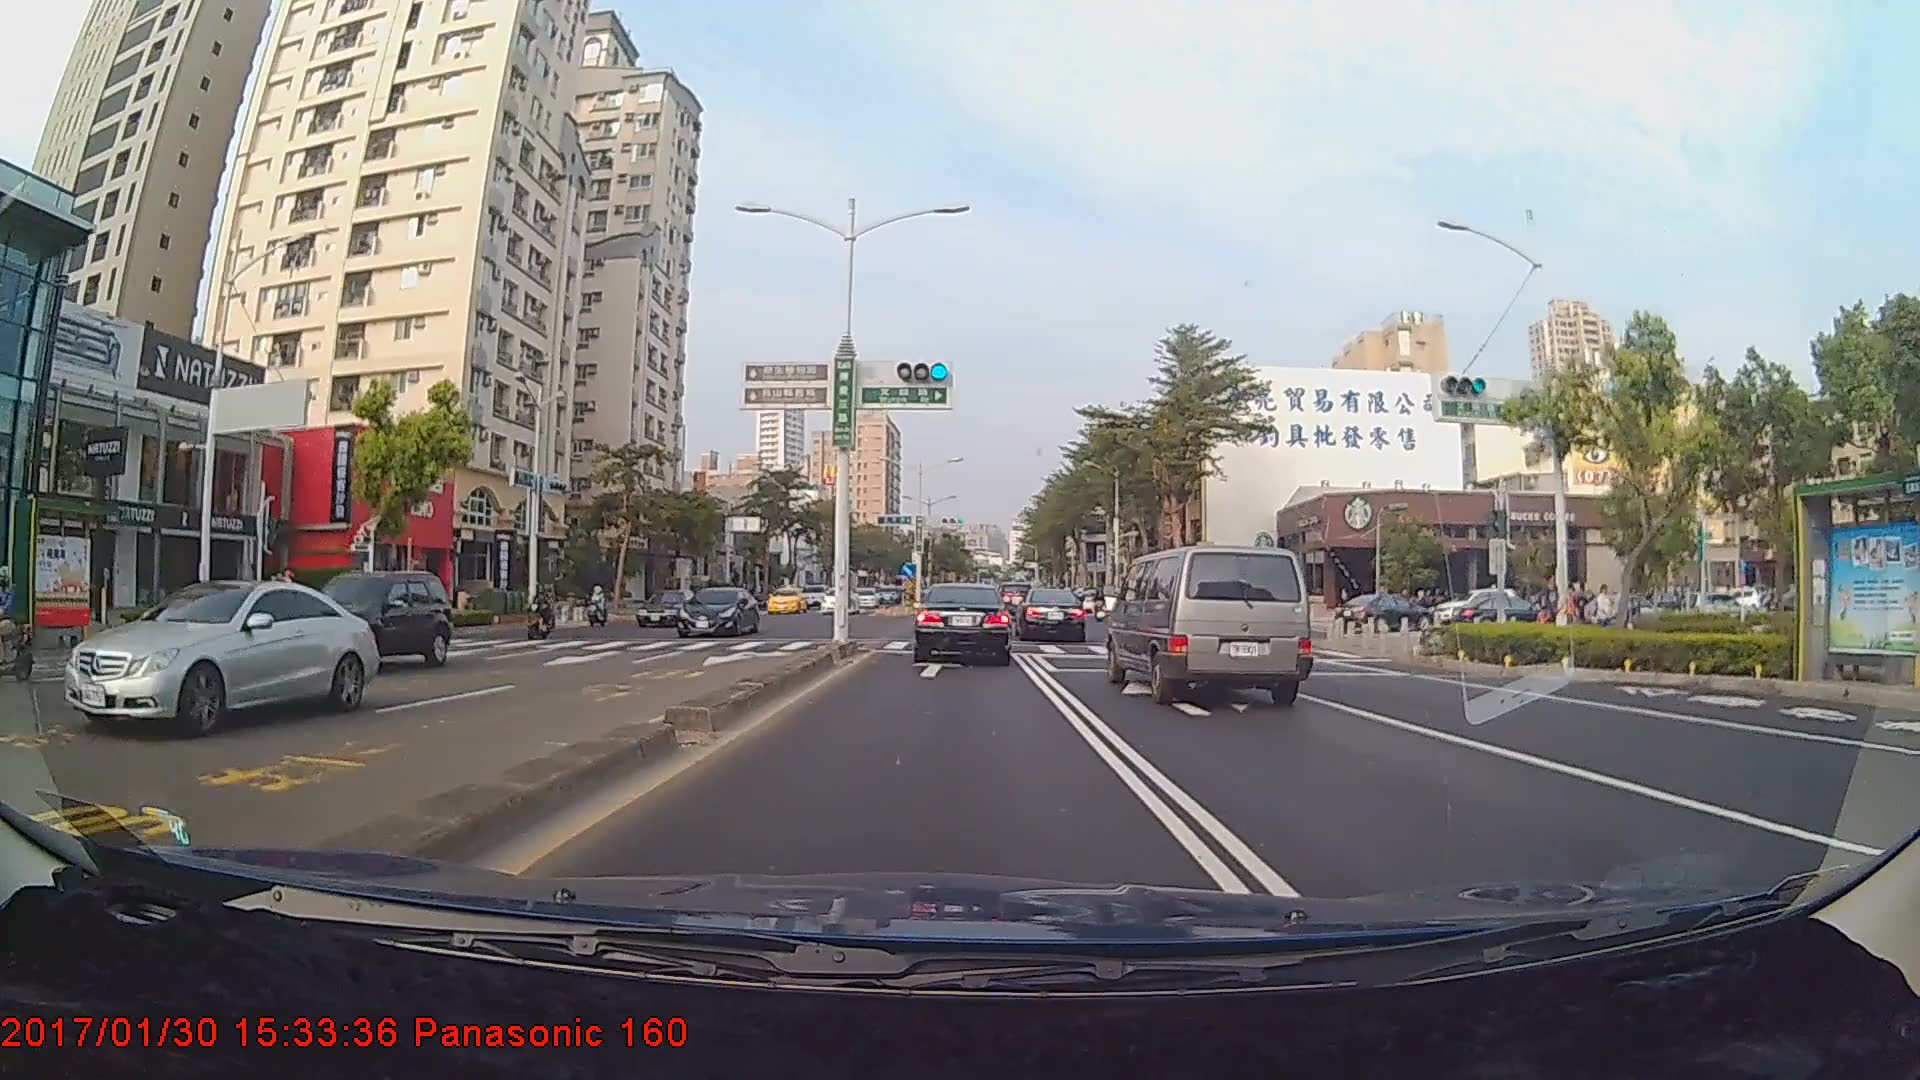pedestrian: (1617, 585, 1638, 647), (1595, 582, 1615, 642)
rider: (251, 567, 311, 645), (1, 572, 39, 681), (527, 582, 564, 646)
vehicle: (62, 578, 380, 737), (1107, 541, 1316, 706), (297, 568, 452, 669), (912, 582, 1012, 665), (675, 584, 760, 637), (1337, 591, 1433, 637), (1015, 589, 1086, 641), (633, 588, 705, 626), (765, 587, 808, 615), (819, 585, 858, 614), (851, 586, 879, 608)
